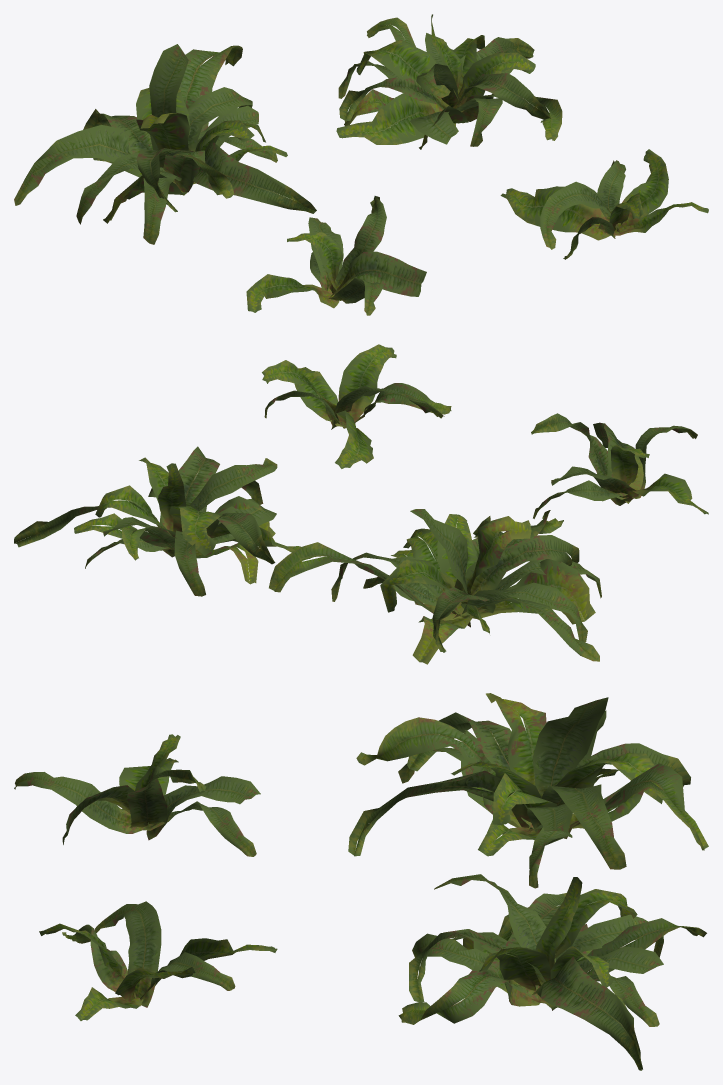
File: fern_02-game.glb
3 renders of one model, top to bottom at view 1: azimuth 30°, elevation 25°; view 2: azimuth 150°, elevation 25°; view 3: azimuth 270°, elevation 25°, orthographic. The views are drawn at different scales.
Visible parts, largest first — view 1: fern_02_b, fern_02_c, fern_02_d, fern_02_a; view 2: fern_02_b, fern_02_c, fern_02_d, fern_02_a; view 3: fern_02_b, fern_02_c, fern_02_a, fern_02_d.
Boxes of the visible parts, left/top/right/bottom form: fern_02_b: left=14, top=44, right=316, bottom=244; fern_02_c: left=336, top=14, right=562, bottom=149; fern_02_d: left=500, top=149, right=708, bottom=259; fern_02_a: left=246, top=196, right=426, bottom=315; fern_02_b: left=269, top=509, right=601, bottom=664; fern_02_c: left=14, top=446, right=310, bottom=596; fern_02_d: left=262, top=344, right=451, bottom=468; fern_02_a: left=531, top=413, right=708, bottom=518; fern_02_b: left=348, top=693, right=708, bottom=888; fern_02_c: left=398, top=874, right=706, bottom=1070; fern_02_a: left=14, top=734, right=260, bottom=856; fern_02_d: left=39, top=901, right=277, bottom=1020.
Bounding box in the file's own units: 1.97 × 0.4261 × 1.72.
Materials: 1 (1 with a texture image).
